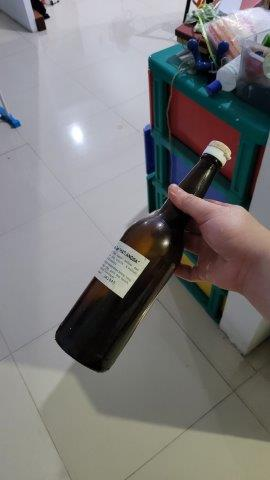botolkaca: (54, 139, 237, 375)
